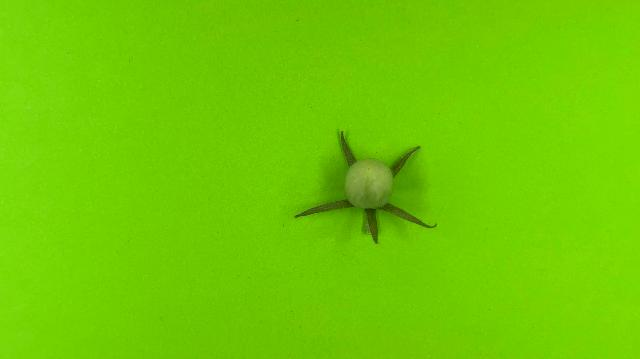Fruit Maturation: (343, 158, 394, 210)
